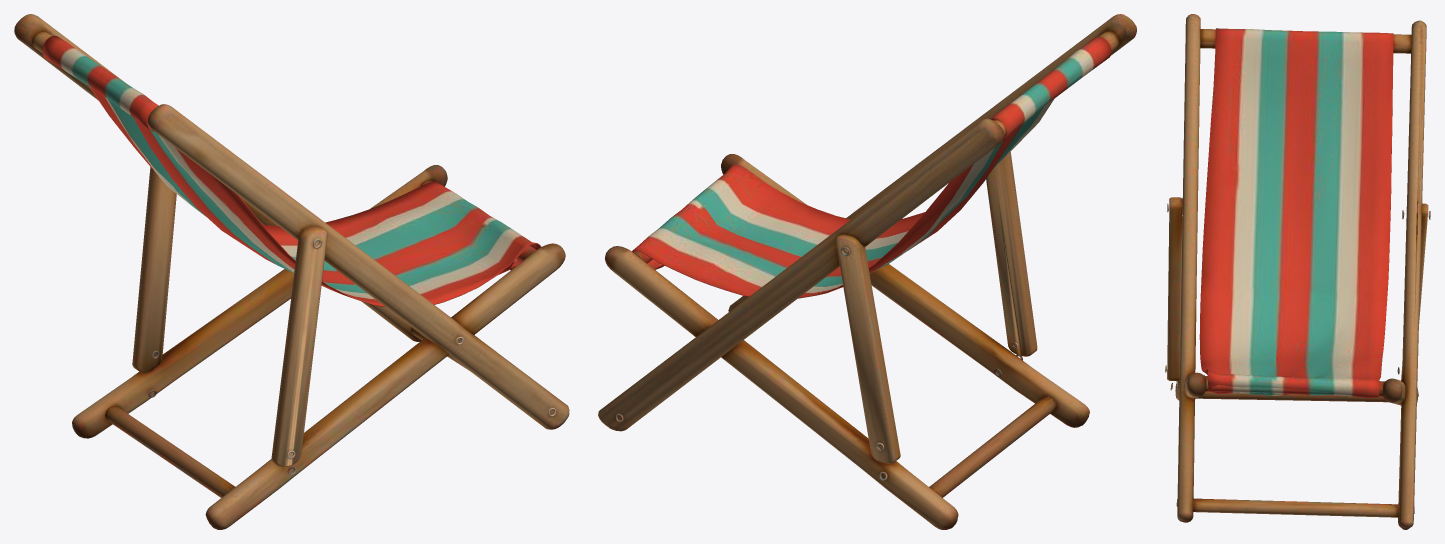
File: deck-chair.glb
3 renders of one model, left to right at view 1: azimuth 30°, elevation 25°; view 2: azimuth 150°, elevation 25°; view 3: azimuth 270°, elevation 25°, orthographic. The views are drawn at different scales.
Visible parts, largest first — view 1: tripo_node_4538cbde-70c9-478a-9d66-91eb85c27fea; view 2: tripo_node_4538cbde-70c9-478a-9d66-91eb85c27fea; view 3: tripo_node_4538cbde-70c9-478a-9d66-91eb85c27fea.
Boxes of the visible parts, x1=… form: tripo_node_4538cbde-70c9-478a-9d66-91eb85c27fea: x1=14, y1=14, x2=569, y2=529; tripo_node_4538cbde-70c9-478a-9d66-91eb85c27fea: x1=598, y1=14, x2=1136, y2=529; tripo_node_4538cbde-70c9-478a-9d66-91eb85c27fea: x1=1165, y1=14, x2=1430, y2=529.
Size of the model in its own units: 0.9941 by 1 by 0.6492.
1 material, 1 textured.
